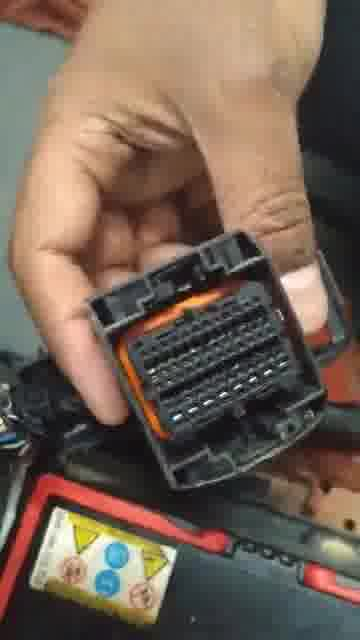connector: (89, 230, 327, 491)
